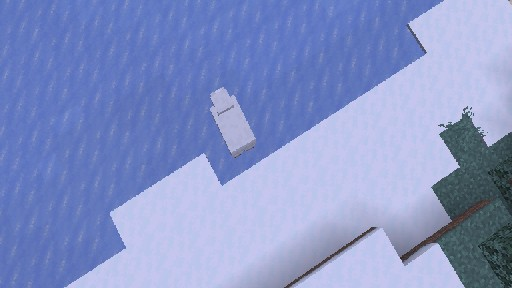sheep: (209, 86, 255, 158)
